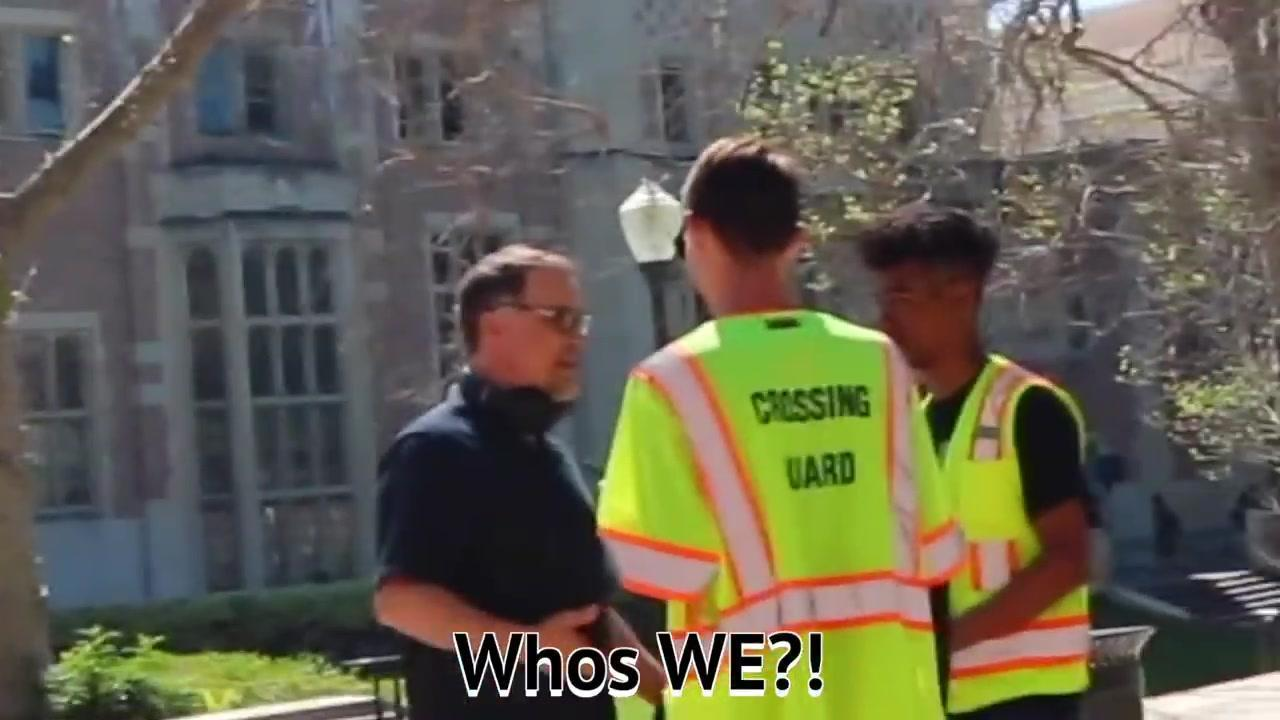vest: (593, 308, 945, 719), (945, 349, 1095, 717)
